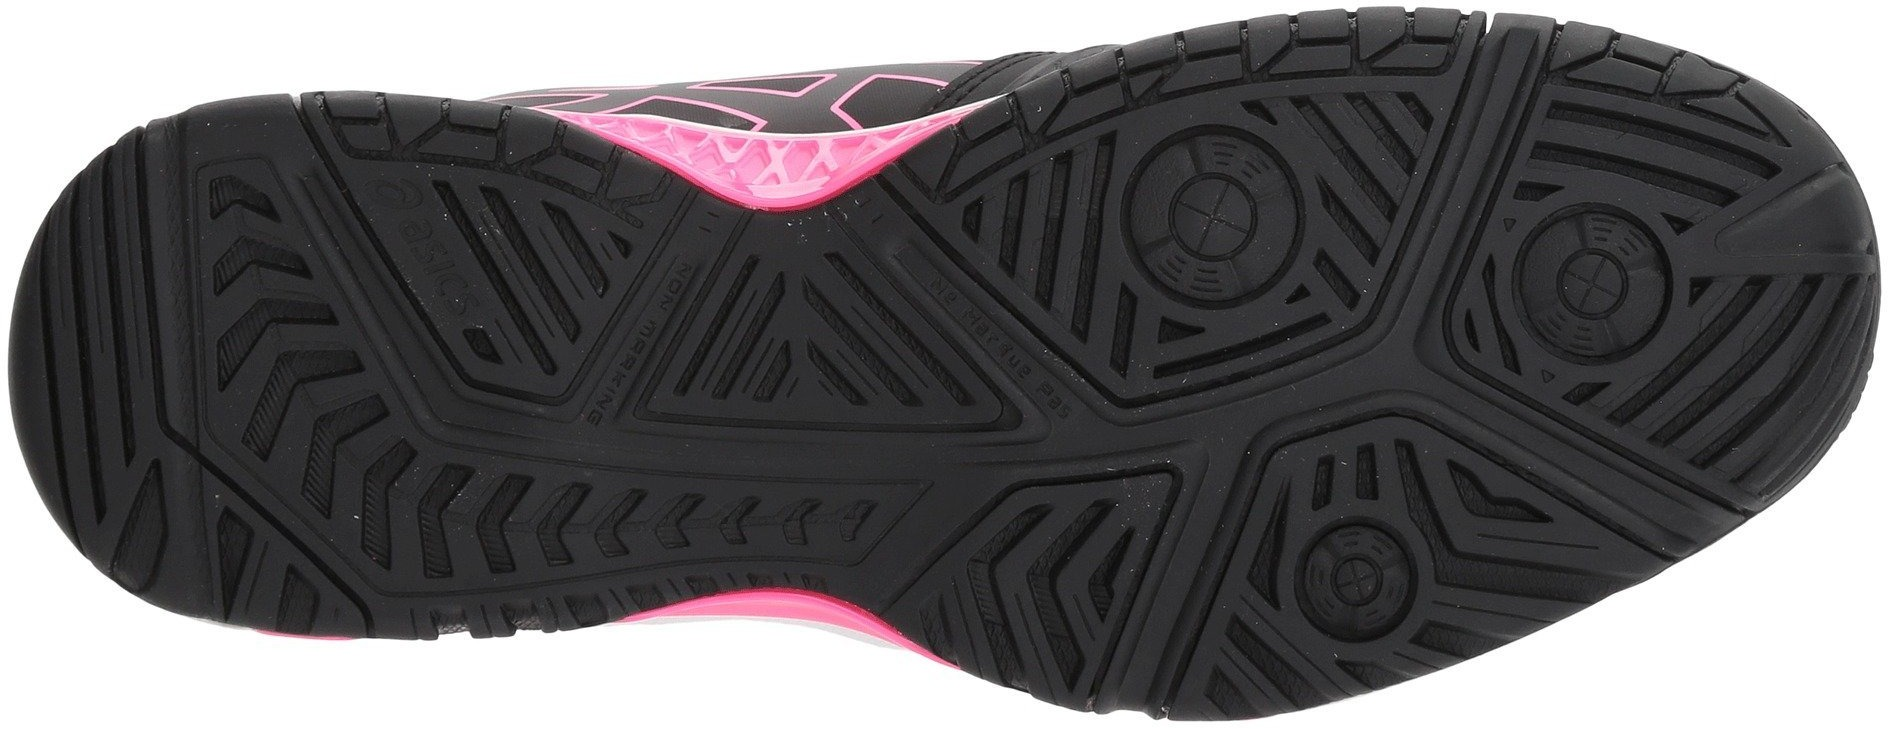chevron: (694, 242, 920, 439), (241, 343, 400, 502), (974, 507, 1126, 663), (427, 457, 559, 590), (217, 227, 329, 322)
circle: (1088, 99, 1322, 329), (1470, 175, 1693, 388), (1263, 505, 1444, 671)
line: (1088, 99, 1322, 329), (399, 158, 625, 392), (1470, 175, 1693, 388), (694, 242, 920, 439), (1263, 505, 1444, 671), (17, 263, 172, 437), (1676, 276, 1837, 433)
quad: (1088, 99, 1322, 329), (399, 158, 625, 392), (1470, 175, 1693, 388), (694, 242, 920, 439), (1284, 74, 1449, 207)
text: (399, 158, 625, 392)
triangle: (1470, 175, 1693, 388)
